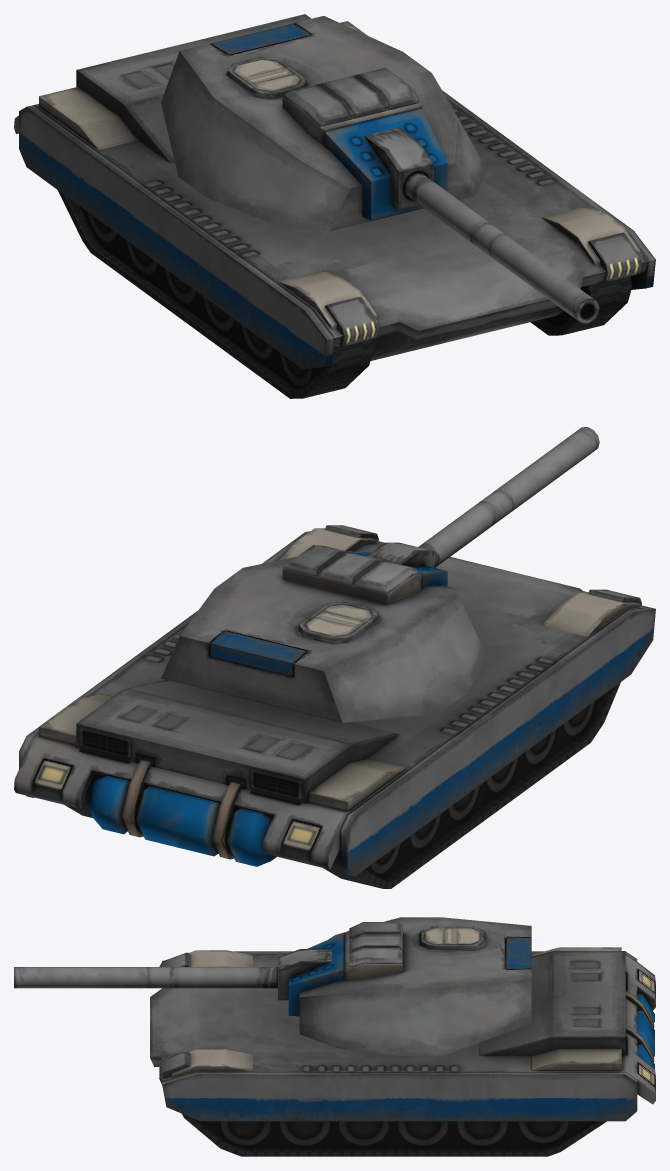
Rendered from tank_blue.gltf.
3 renders of one model, top to bottom at view 1: azimuth 30°, elevation 25°; view 2: azimuth 150°, elevation 25°; view 3: azimuth 270°, elevation 25°, orthographic. The views are drawn at different scales.
Visible parts, largest first — view 1: tank_lo.004_Cylinder.008, treads_lo.003_Cylinder.009; view 2: tank_lo.004_Cylinder.008, treads_lo.003_Cylinder.009; view 3: tank_lo.004_Cylinder.008, treads_lo.003_Cylinder.009.
Part boxes in pixels (x1,y1,x2,y2): tank_lo.004_Cylinder.008: (14, 14, 655, 388); treads_lo.003_Cylinder.009: (57, 190, 632, 398); tank_lo.004_Cylinder.008: (14, 427, 655, 878); treads_lo.003_Cylinder.009: (65, 682, 620, 888); tank_lo.004_Cylinder.008: (14, 917, 655, 1148); treads_lo.003_Cylinder.009: (182, 1114, 606, 1156).
Bounding box in the file's own units: 5.93 × 3.57 × 13.01.
Materials: 2 (2 with a texture image).
